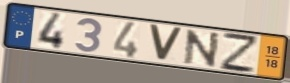3: (73, 16, 104, 54)
4: (35, 11, 67, 50), (111, 19, 140, 60)
N: (182, 28, 222, 69)
V: (147, 22, 185, 64)
Z: (219, 30, 259, 75)
